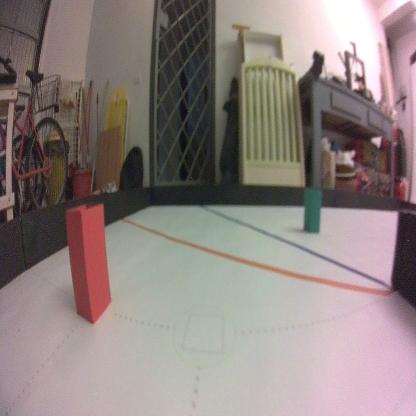green: (302, 183, 322, 232)
red: (64, 198, 113, 329)
